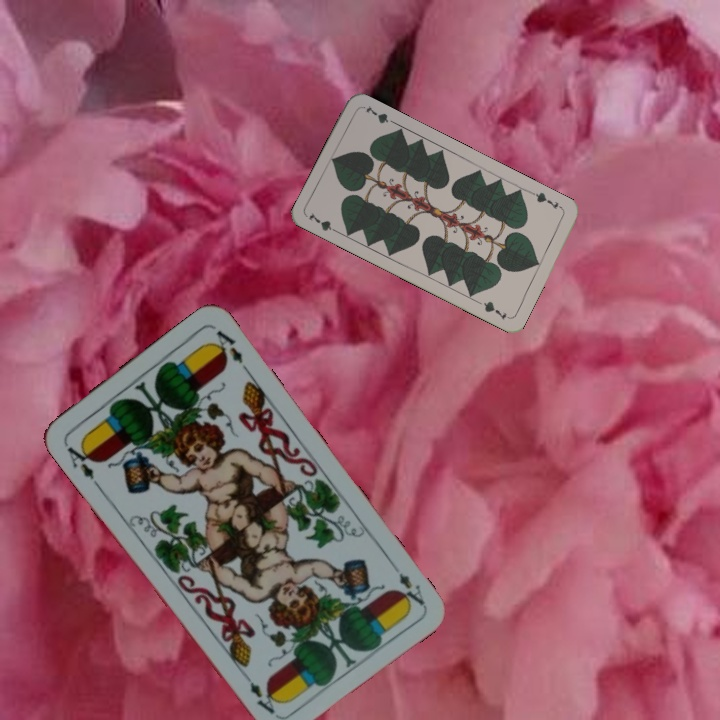EA: (386, 558, 428, 612), (60, 438, 99, 482)
G7: (304, 208, 342, 236), (528, 188, 566, 212)
